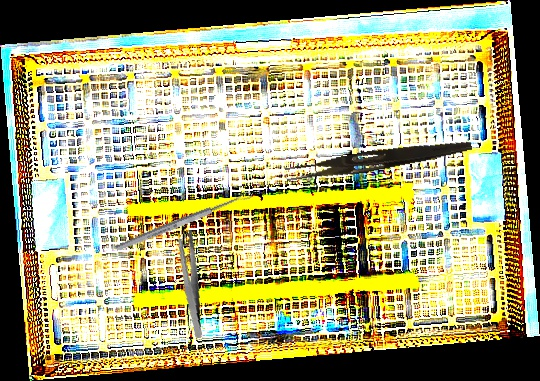Dressing Forceps: (284, 131, 473, 189), (165, 228, 217, 339)
Surgical Spoon: (113, 189, 254, 254)
